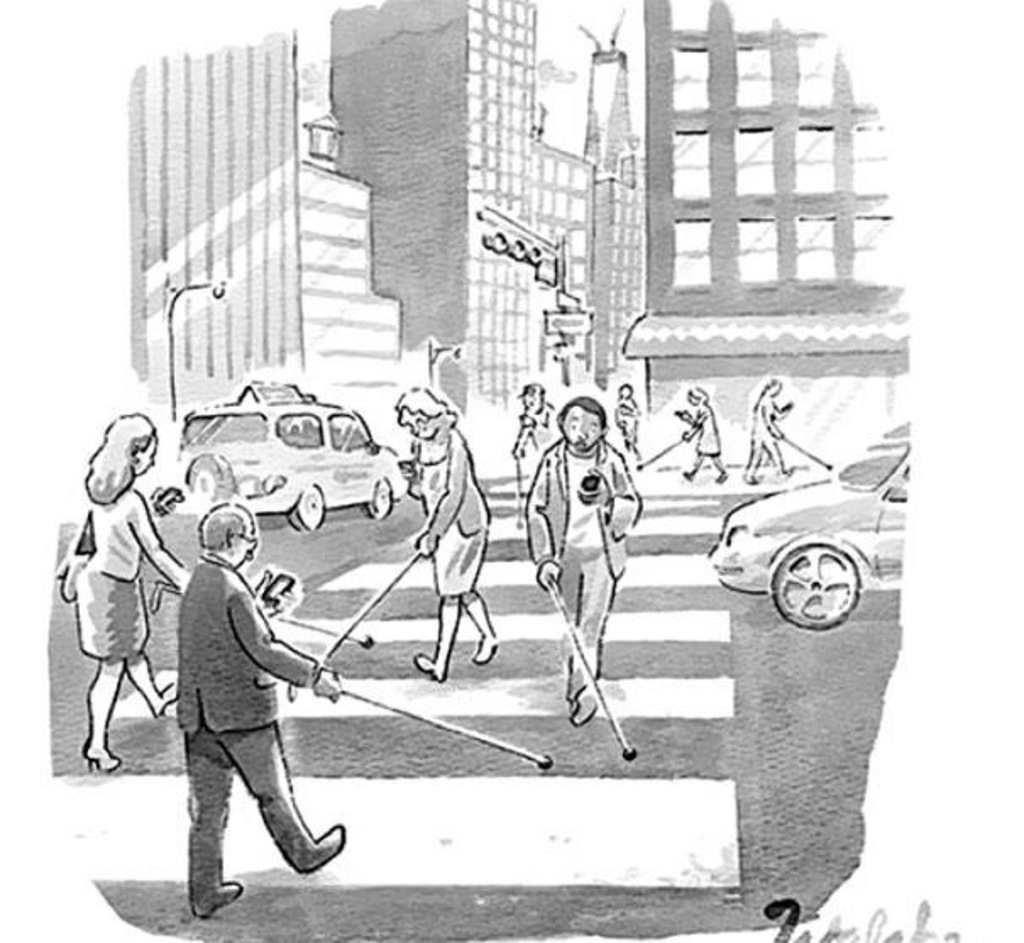Car: (147, 386, 404, 529), (712, 445, 908, 629)
